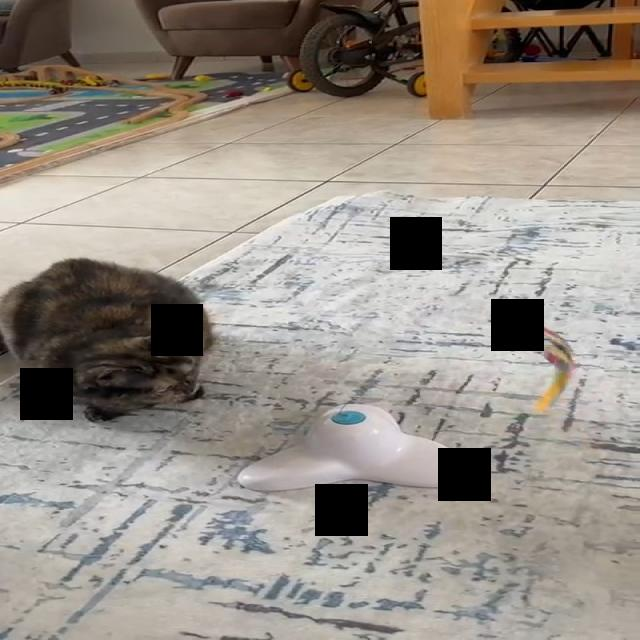authorized: (0, 256, 215, 422)
